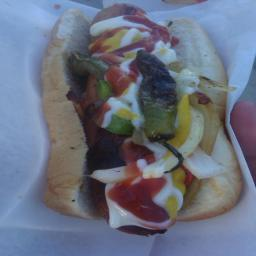hotdog: (37, 0, 241, 240)
